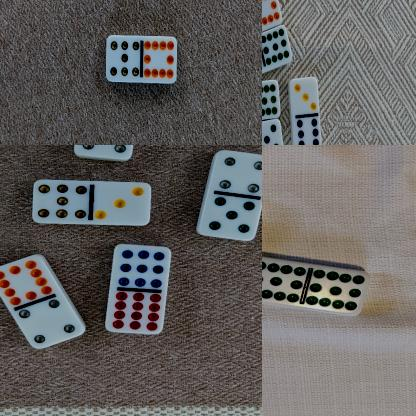pip-10: (0, 255, 52, 306), (142, 35, 178, 84), (262, 0, 282, 30)
pip-11: (304, 270, 369, 316), (262, 257, 305, 305), (262, 26, 291, 67), (262, 78, 279, 121)
pip-12: (104, 292, 165, 334)
pip-3: (92, 182, 151, 226), (289, 76, 319, 116)
pip-4: (18, 300, 85, 350), (212, 151, 262, 196), (73, 145, 133, 159)
pip-5: (199, 196, 259, 241), (262, 118, 283, 145)
pip-6: (292, 115, 322, 145)
pip-7: (32, 180, 90, 224), (105, 37, 141, 84)
pip-9: (112, 246, 172, 290)
